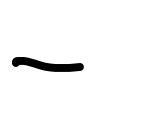minus: (11, 56, 84, 74)
